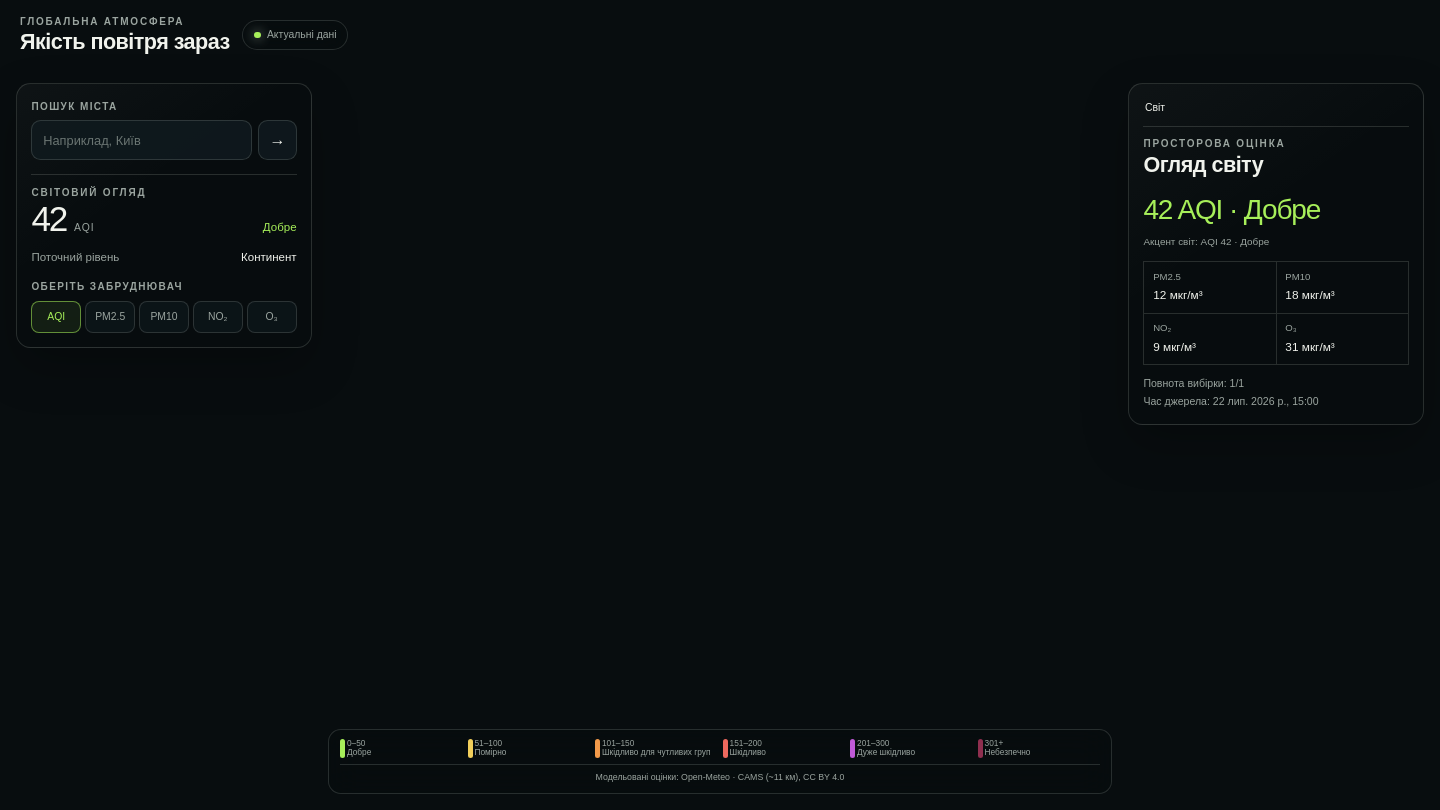
air quality globe shell › ignores a stale geocoding response that resolves last
Step 1. Type "Київ" into the search field labelled "Пошук міста" → (142, 140), box [31, 120, 252, 160]
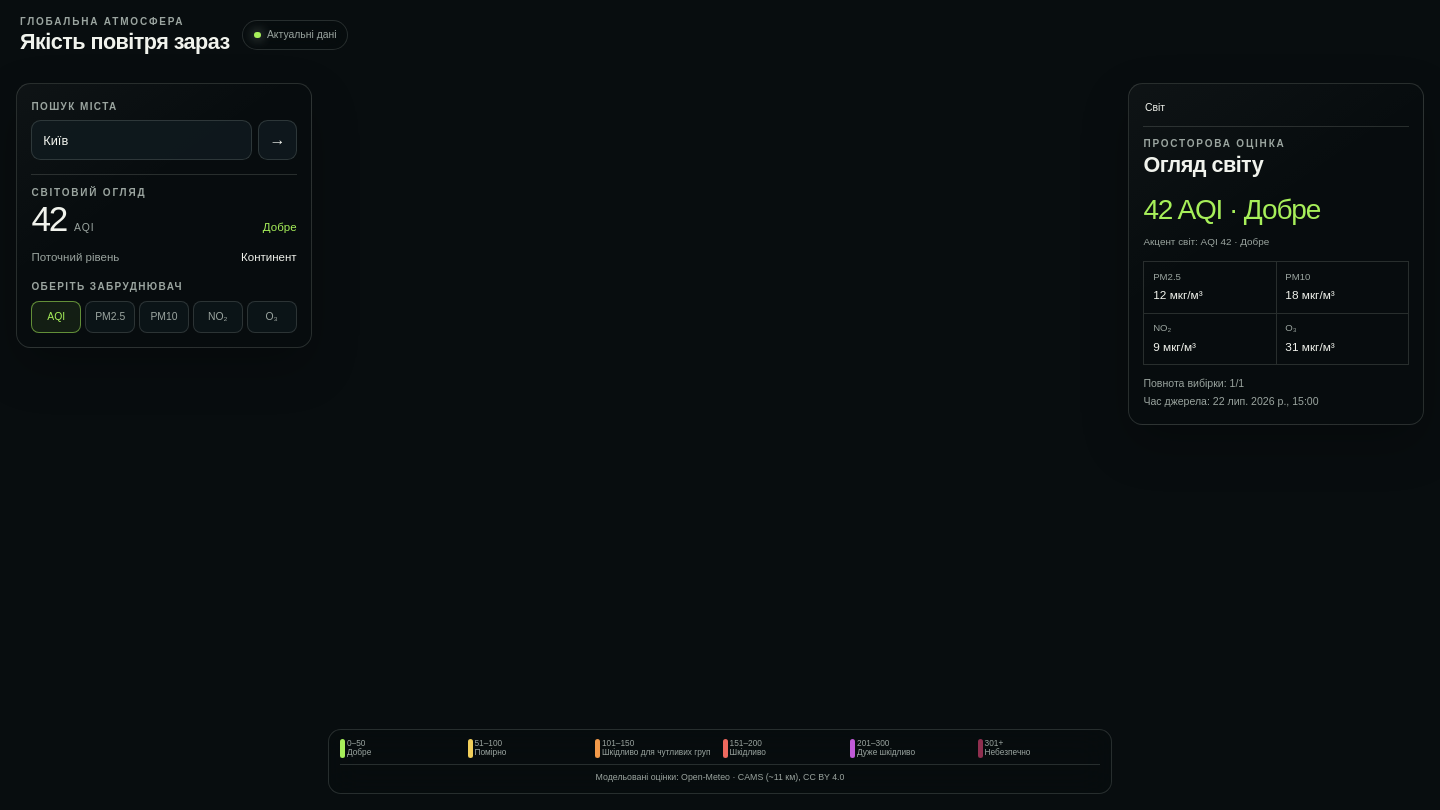
Step 2. Click the button named "Знайти місто" → (277, 140), box [258, 120, 297, 160]
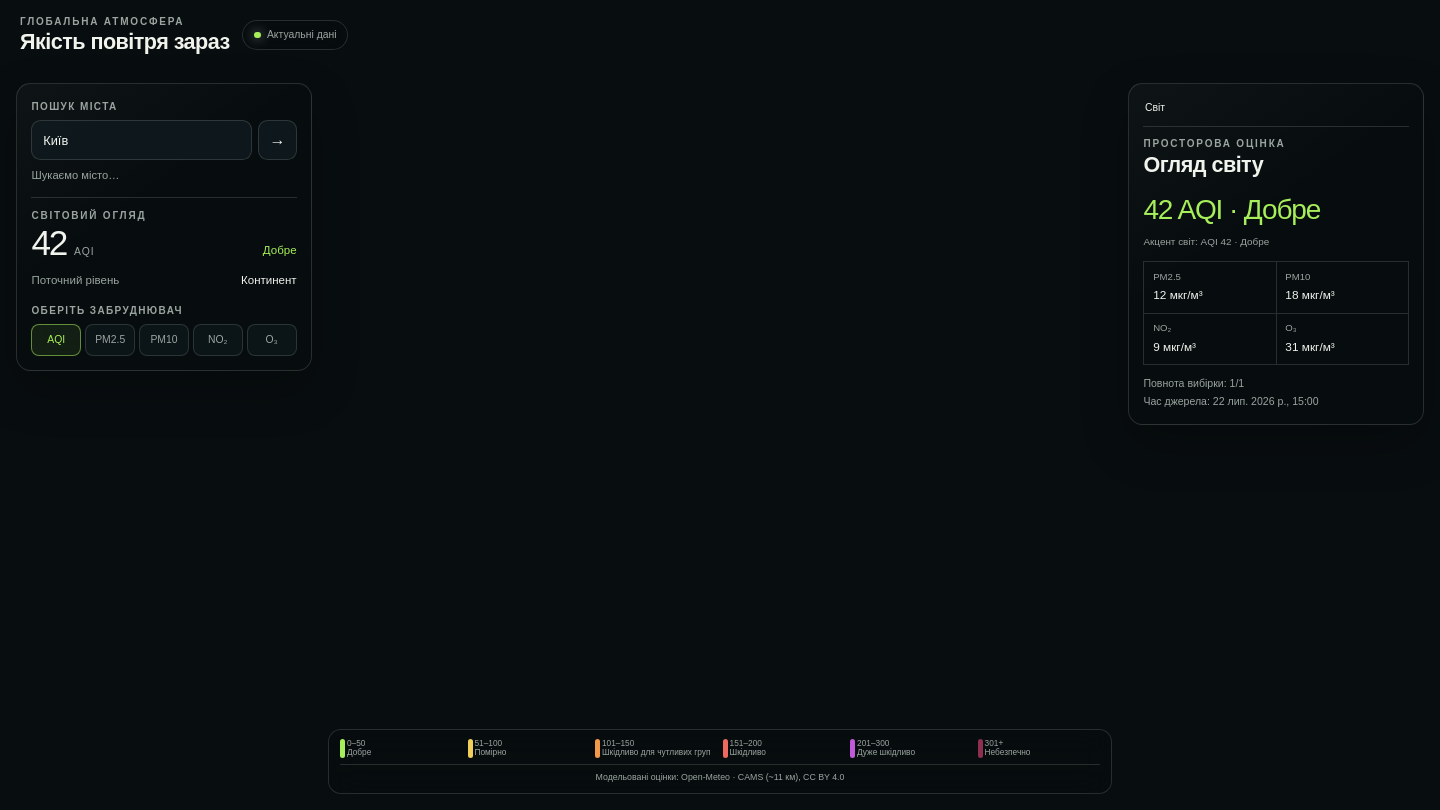
Step 3. Replace the text in the search field labelled "Пошук міста" with "Львів" → (142, 140), box [31, 120, 252, 160]
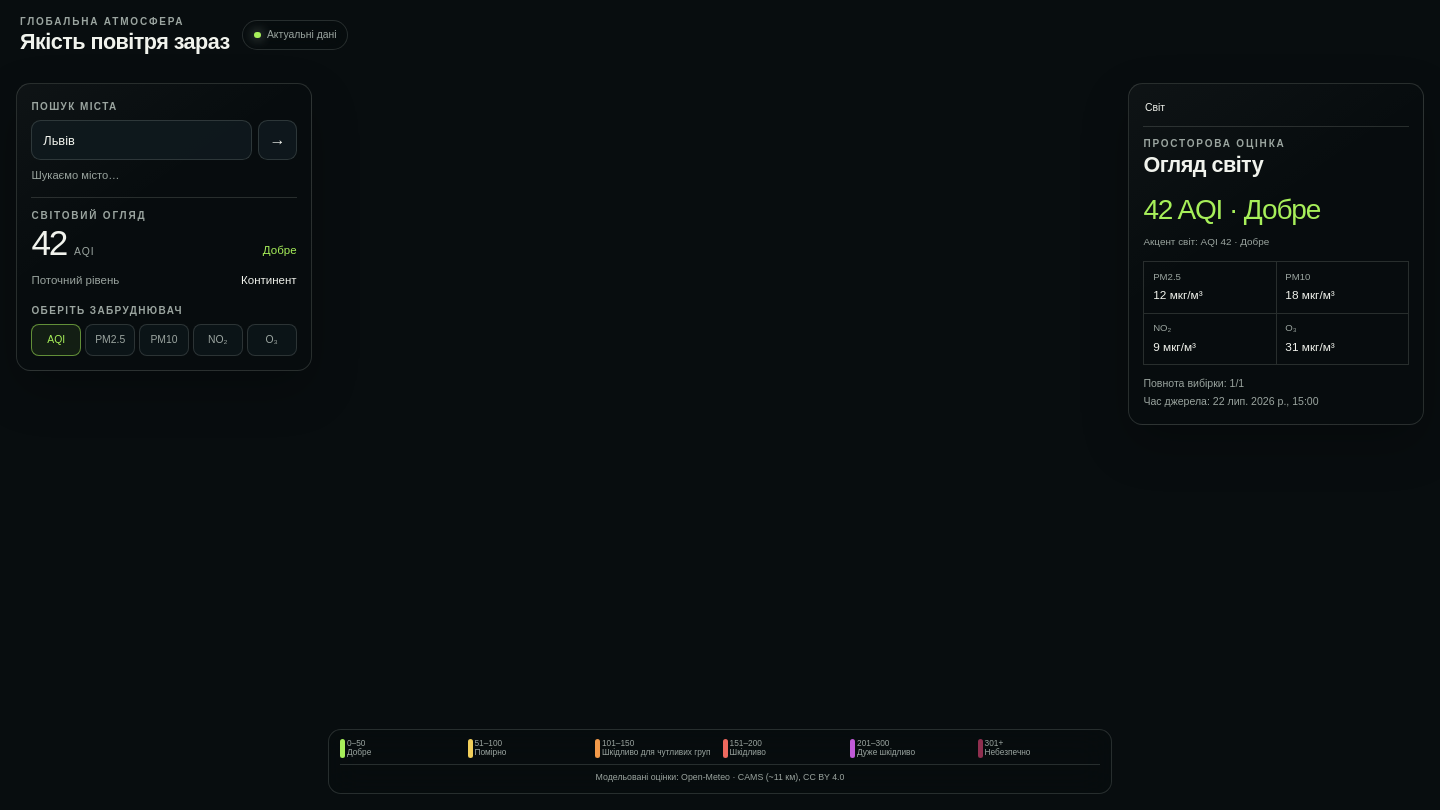
Step 4. Click the button named "Знайти місто" → (277, 140), box [258, 120, 297, 160]
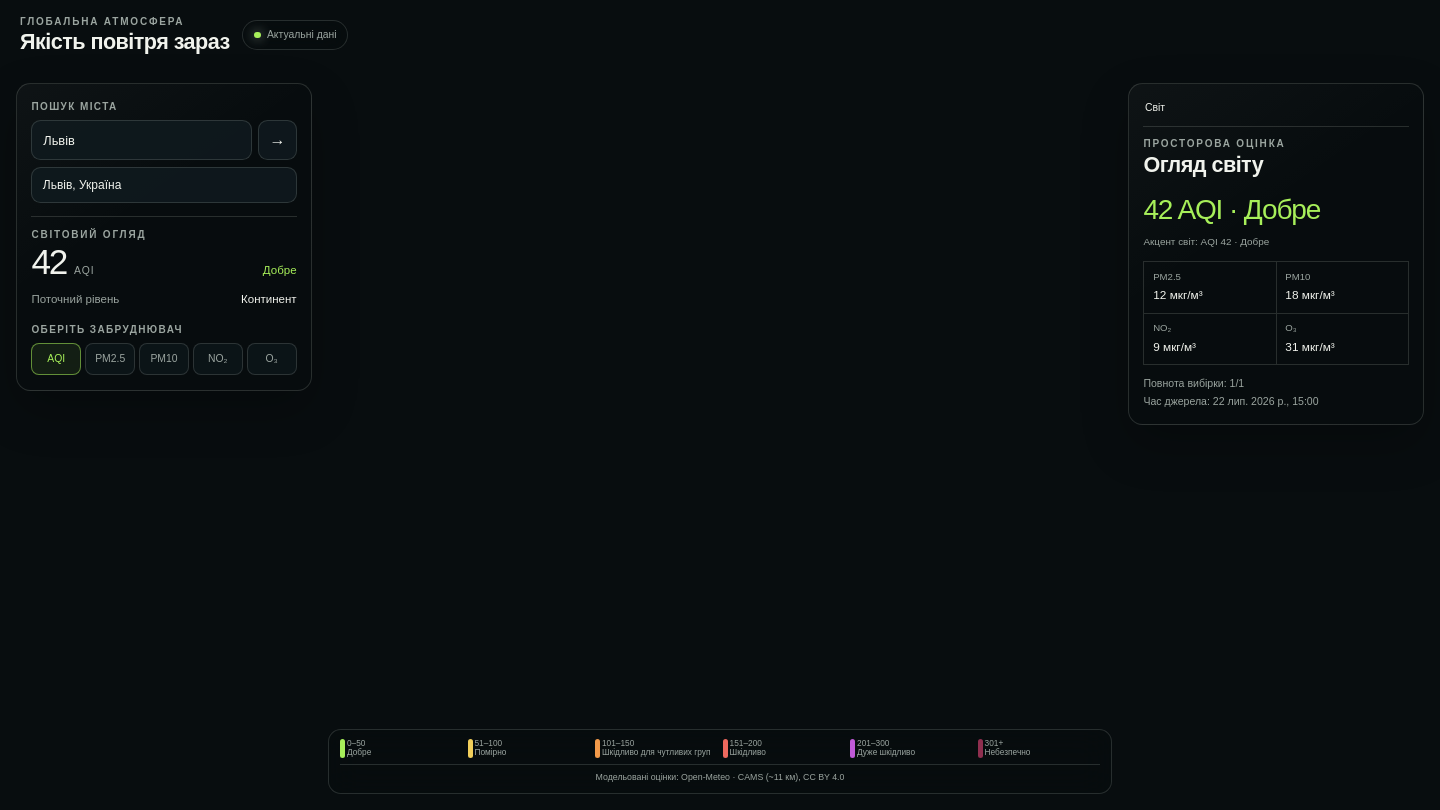
Expected: the button "Львів, Україна" is shown, [31, 167, 297, 203]
